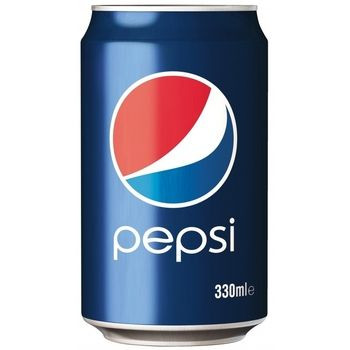pepsi_can: (77, 3, 270, 344)
